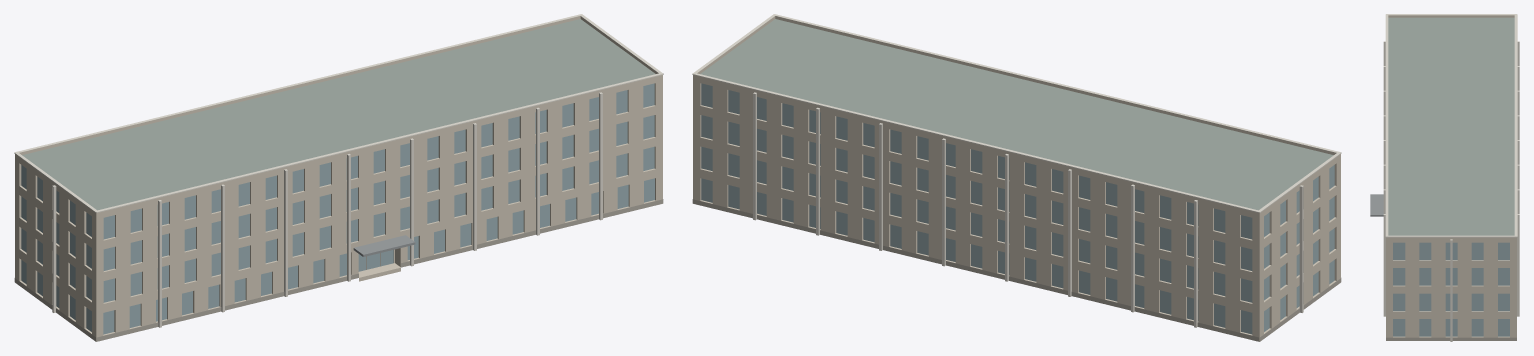
The picture shows the model from 3 angles, left to right: view 1: azimuth 30°, elevation 25°; view 2: azimuth 150°, elevation 25°; view 3: azimuth 270°, elevation 25°; orthographic projection. The views are drawn at different scales.
Parts seen in each view (by area): view 1: b115951779__wall, b115951779__roof, b115951779__glass, b115951779__trim, b115951779__parapet, b115951779__base, b115951779__canopy; view 2: b115951779__wall, b115951779__roof, b115951779__glass, b115951779__trim, b115951779__parapet, b115951779__base; view 3: b115951779__roof, b115951779__wall, b115951779__glass, b115951779__trim, b115951779__parapet, b115951779__base, b115951779__canopy.
Part boxes in pixels (box(x1,y1,x2,y2)): b115951779__wall: box(15, 77, 662, 341); b115951779__roof: box(22, 19, 655, 341); b115951779__glass: box(21, 83, 654, 334); b115951779__trim: box(14, 14, 663, 327); b115951779__parapet: box(15, 16, 662, 214); b115951779__base: box(14, 199, 663, 341); b115951779__canopy: box(353, 235, 415, 256); b115951779__wall: box(693, 77, 1340, 341); b115951779__roof: box(700, 19, 1333, 341); b115951779__glass: box(701, 83, 1334, 334); b115951779__trim: box(692, 14, 1341, 327); b115951779__parapet: box(693, 16, 1340, 214); b115951779__base: box(692, 199, 1341, 341); b115951779__roof: box(1388, 17, 1514, 235); b115951779__wall: box(1386, 239, 1516, 337); b115951779__glass: box(1393, 242, 1509, 336); b115951779__trim: box(1383, 14, 1519, 341); b115951779__parapet: box(1386, 15, 1516, 238); b115951779__base: box(1386, 337, 1516, 340); b115951779__canopy: box(1370, 194, 1383, 216).
Bounding box in the file's own units: 68.08 × 15.15 × 19.1.
